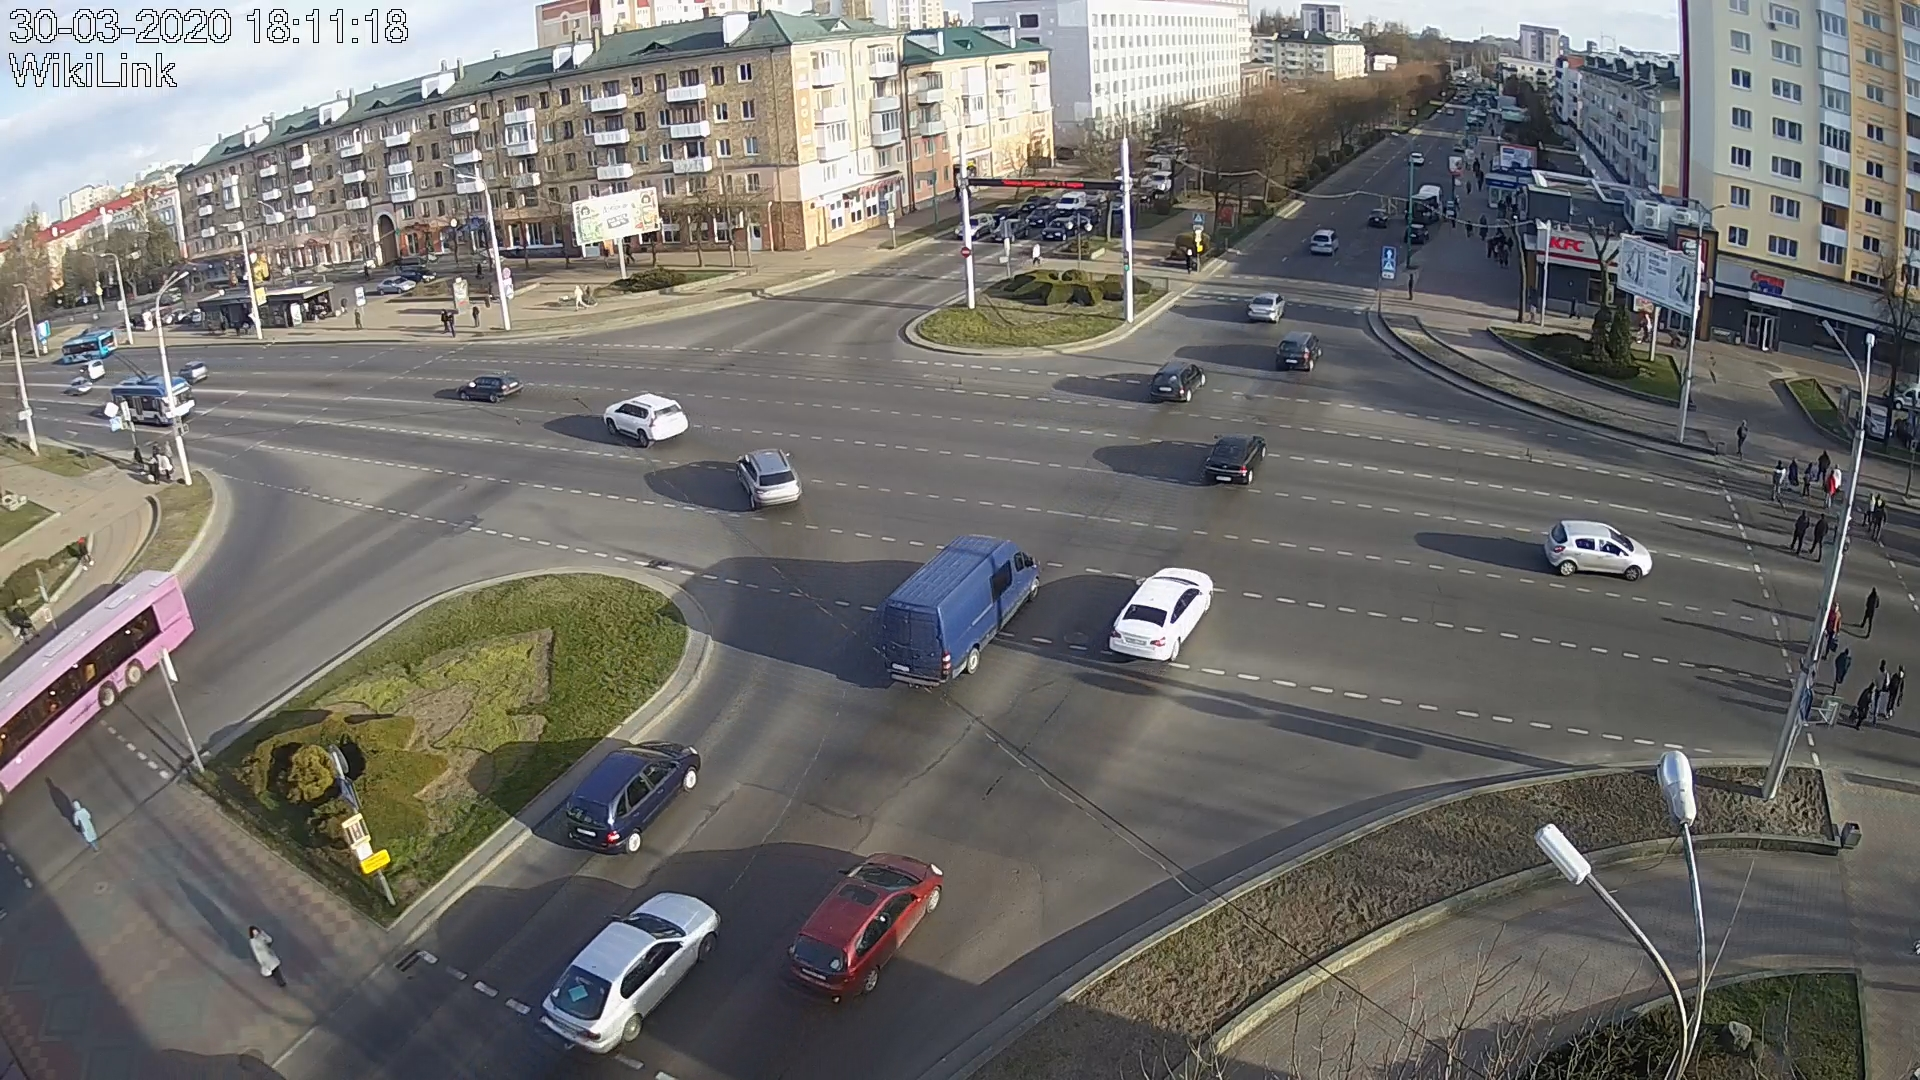bus: (1, 571, 196, 798), (111, 375, 196, 429)
car: (542, 890, 721, 1054), (786, 852, 944, 1007), (880, 535, 1040, 688), (567, 740, 702, 857), (1110, 567, 1213, 663), (1544, 520, 1652, 583), (604, 393, 690, 448), (736, 447, 803, 512), (1204, 433, 1267, 487), (1150, 363, 1207, 404), (458, 373, 524, 404), (1276, 332, 1323, 375), (1249, 291, 1284, 324), (955, 214, 996, 237), (1040, 218, 1077, 243), (992, 219, 1029, 244)
